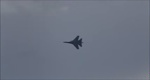maybay_muctieu: (62, 34, 84, 51)
